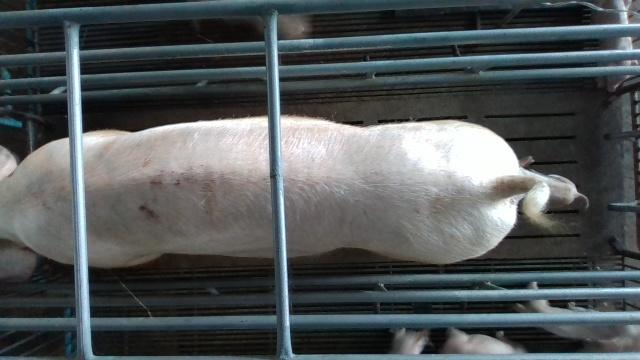piglet: (515, 283, 640, 345), (592, 0, 640, 91), (517, 156, 590, 205), (438, 327, 528, 354)
sow-stand-feed: (0, 114, 554, 283)
